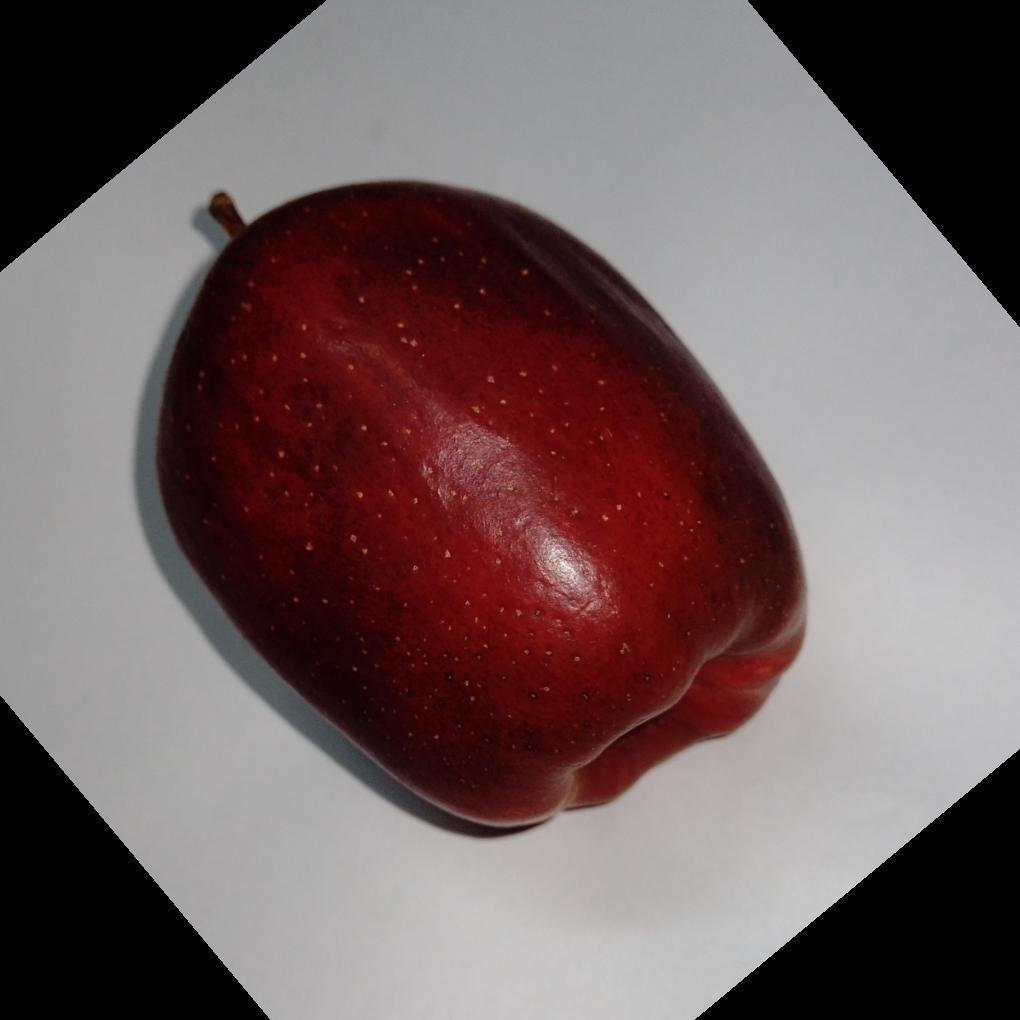FreshOrange: (146, 180, 809, 841)
